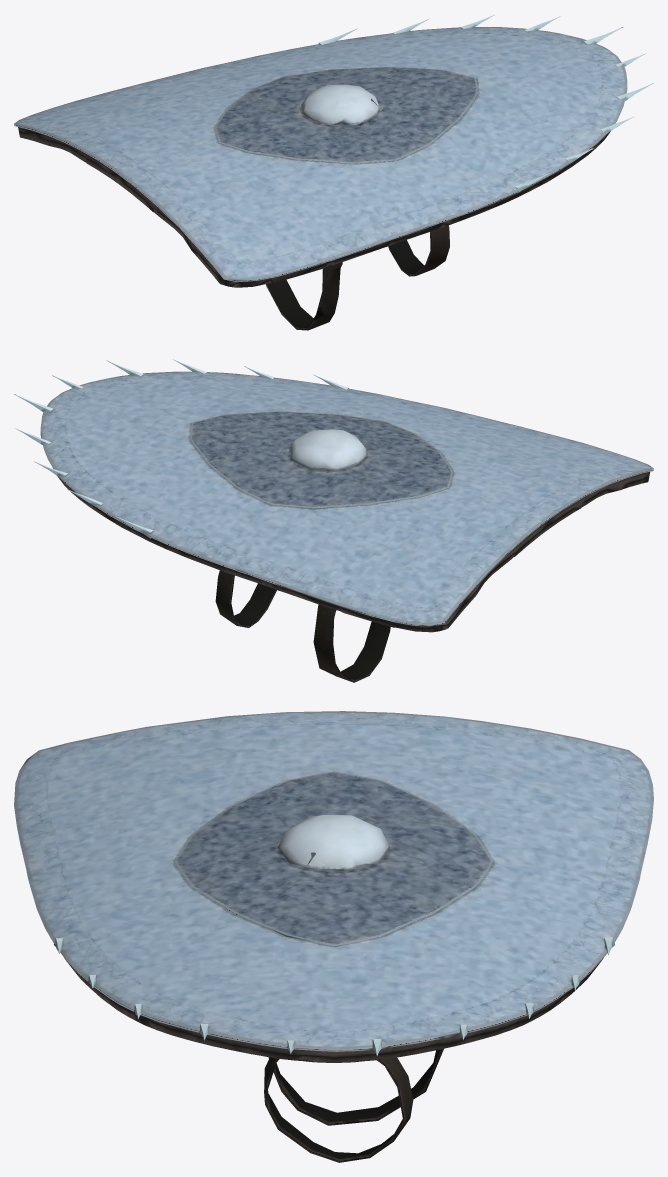
Rendered from shield_glacial.glb.
The picture shows the model from 3 angles, top to bottom: view 1: azimuth 30°, elevation 25°; view 2: azimuth 150°, elevation 25°; view 3: azimuth 270°, elevation 25°; orthographic projection. The views are drawn at different scales.
Visible parts, largest first — view 1: shield; view 2: shield; view 3: shield.
Part boxes in pixels (left/top/right/bottom): shield: left=14, top=14, right=653, bottom=330; shield: left=14, top=359, right=653, bottom=682; shield: left=14, top=711, right=653, bottom=1162.
Bounding box in the file's own units: 0.6866 × 0.2901 × 0.5213.
Materials: 1 (1 with a texture image).
